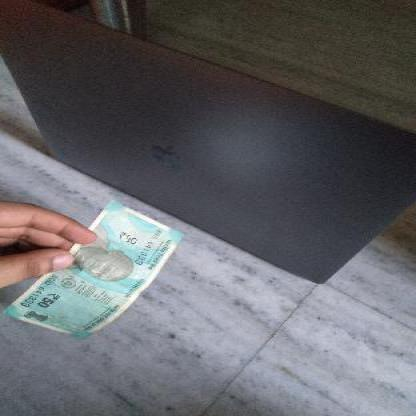New50Front: (5, 201, 175, 338)
